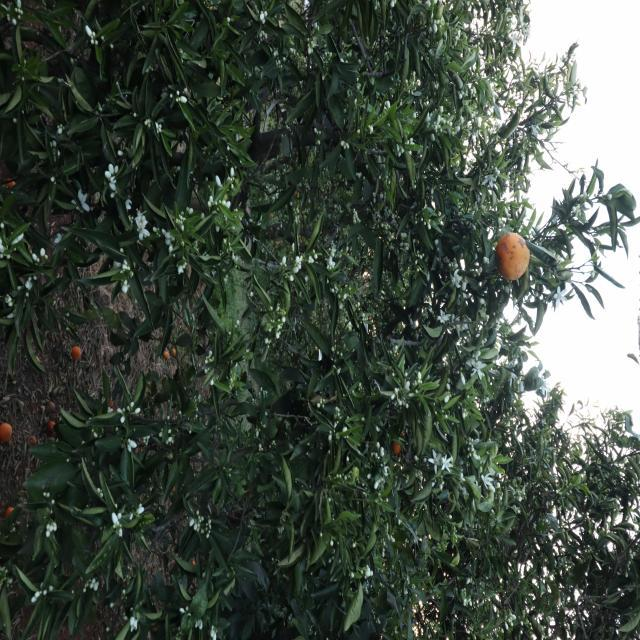Bunga: (226, 616, 258, 640), (513, 428, 539, 452), (163, 520, 200, 536), (206, 490, 242, 506), (311, 352, 338, 372), (276, 602, 300, 623), (256, 337, 282, 354), (404, 500, 424, 522), (284, 288, 312, 303), (455, 188, 473, 211), (264, 508, 292, 522), (510, 516, 538, 530), (115, 192, 131, 216), (18, 196, 36, 214), (308, 188, 328, 204), (229, 464, 255, 476), (192, 552, 214, 566), (518, 582, 540, 596), (247, 592, 266, 608), (468, 145, 488, 159), (504, 496, 521, 512), (358, 155, 376, 170), (25, 543, 47, 555), (612, 126, 634, 138), (623, 419, 640, 434), (579, 540, 593, 558), (198, 409, 208, 434), (34, 323, 54, 335), (246, 304, 270, 314), (268, 178, 288, 190), (565, 265, 581, 280), (88, 453, 106, 466), (247, 322, 265, 335), (260, 452, 276, 466), (123, 178, 136, 194), (51, 306, 68, 318), (604, 448, 617, 462), (616, 502, 634, 512), (427, 466, 447, 474), (293, 626, 308, 636), (8, 372, 26, 380), (438, 504, 452, 514), (31, 372, 45, 382), (208, 280, 225, 288), (166, 406, 188, 412), (56, 355, 70, 364), (136, 226, 148, 236), (121, 478, 135, 486), (144, 236, 158, 244), (233, 578, 244, 588), (47, 341, 57, 352), (138, 290, 148, 301), (620, 438, 631, 448), (240, 230, 250, 240), (126, 318, 136, 326), (100, 251, 112, 256), (124, 267, 134, 272), (170, 141, 176, 147)
Jeruk Sudah Matang: (232, 110, 282, 146), (422, 627, 442, 640), (346, 558, 360, 570)
